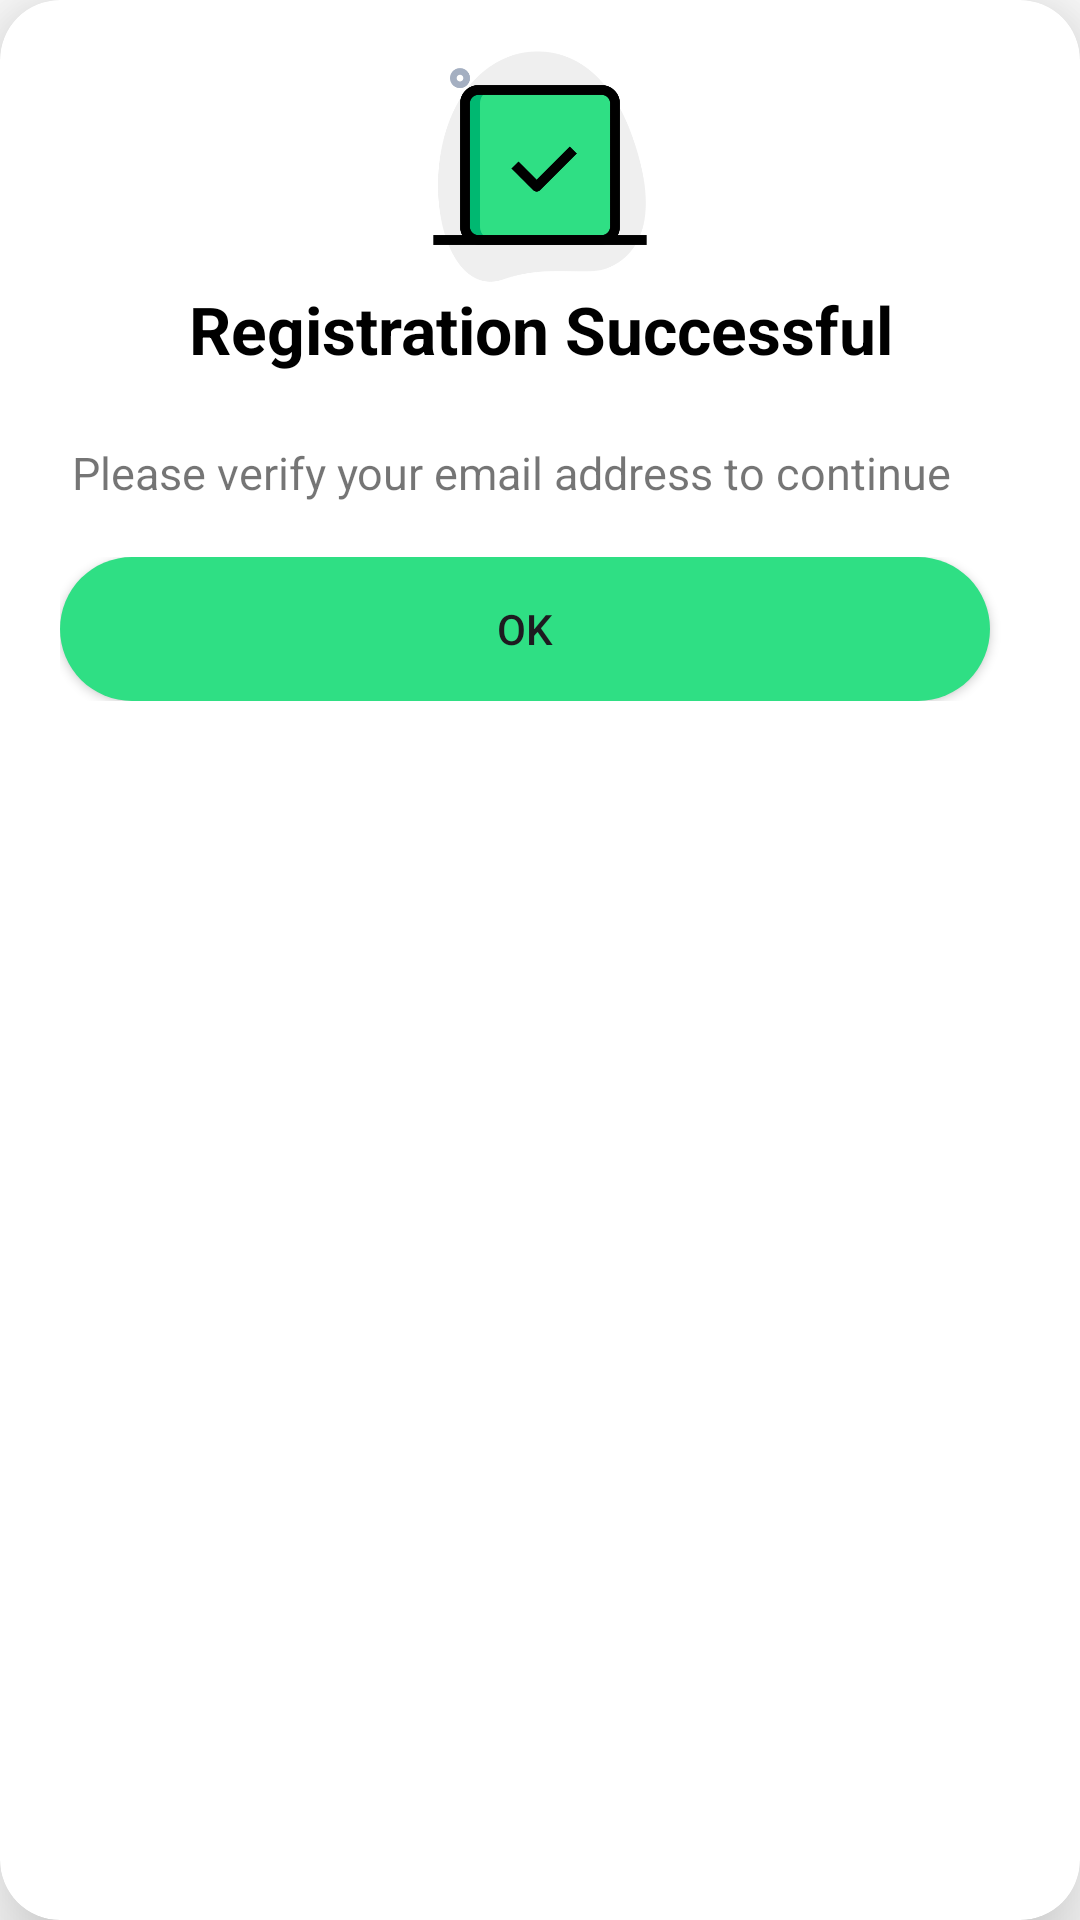

Icons on this 1080px x 1920px Android screen, each with its box as (x1, y1, x2, y2):
checked: (433, 68, 647, 245)
